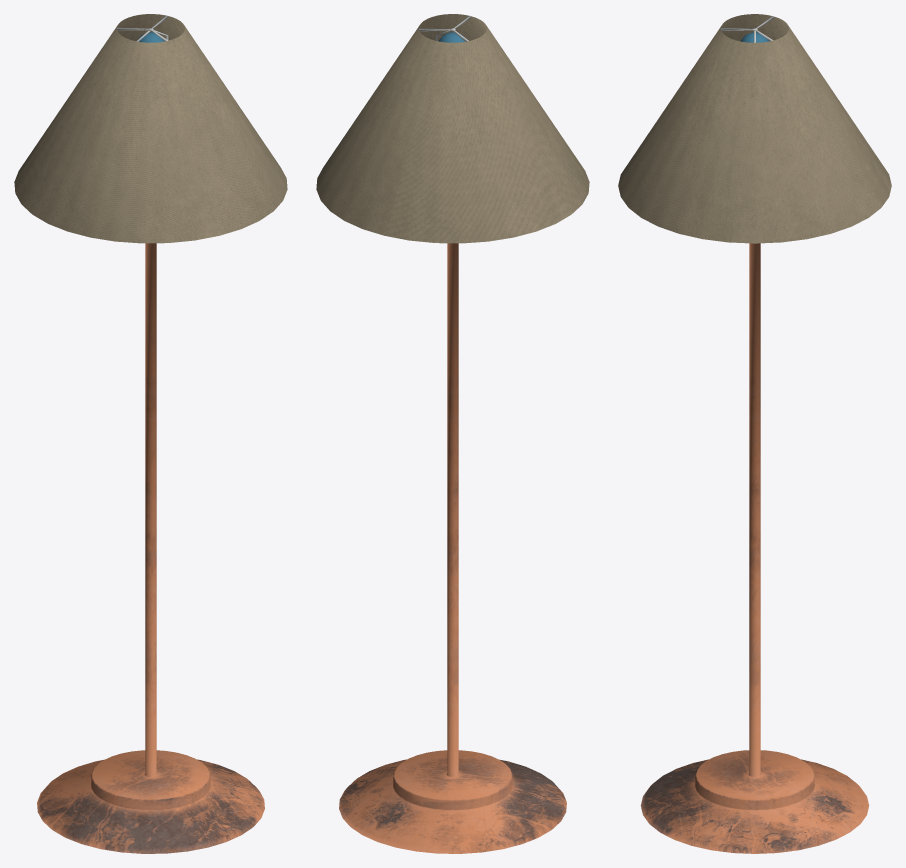
The model's file is lamp.fbx.
3 renders of one model, left to right at view 1: azimuth 30°, elevation 25°; view 2: azimuth 150°, elevation 25°; view 3: azimuth 270°, elevation 25°, orthographic.
Parts seen in each view (by area): view 1: Lamp; view 2: Lamp; view 3: Lamp.
Part boxes in pixels (x1=…): Lamp: x1=14, y1=14, x2=287, y2=853; Lamp: x1=316, y1=14, x2=589, y2=853; Lamp: x1=618, y1=14, x2=891, y2=853.
Size of the model in its own units: 63.9 by 200 by 63.9.
Materials: 1 (1 with a texture image).
